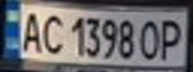1: (63, 12, 84, 56)
3: (81, 14, 103, 57)
8: (115, 16, 139, 61)
9: (100, 15, 121, 58)
A: (18, 8, 45, 54)
C: (39, 10, 66, 55)
O: (136, 16, 163, 61)
P: (157, 16, 187, 61)
